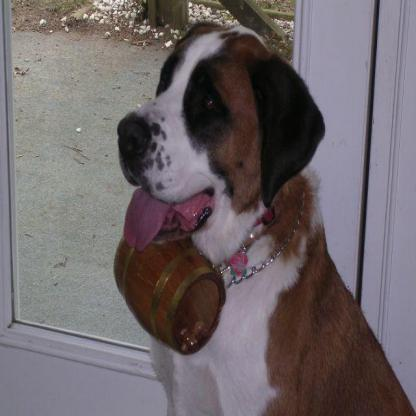Saint_Bernard: (114, 19, 414, 414)
